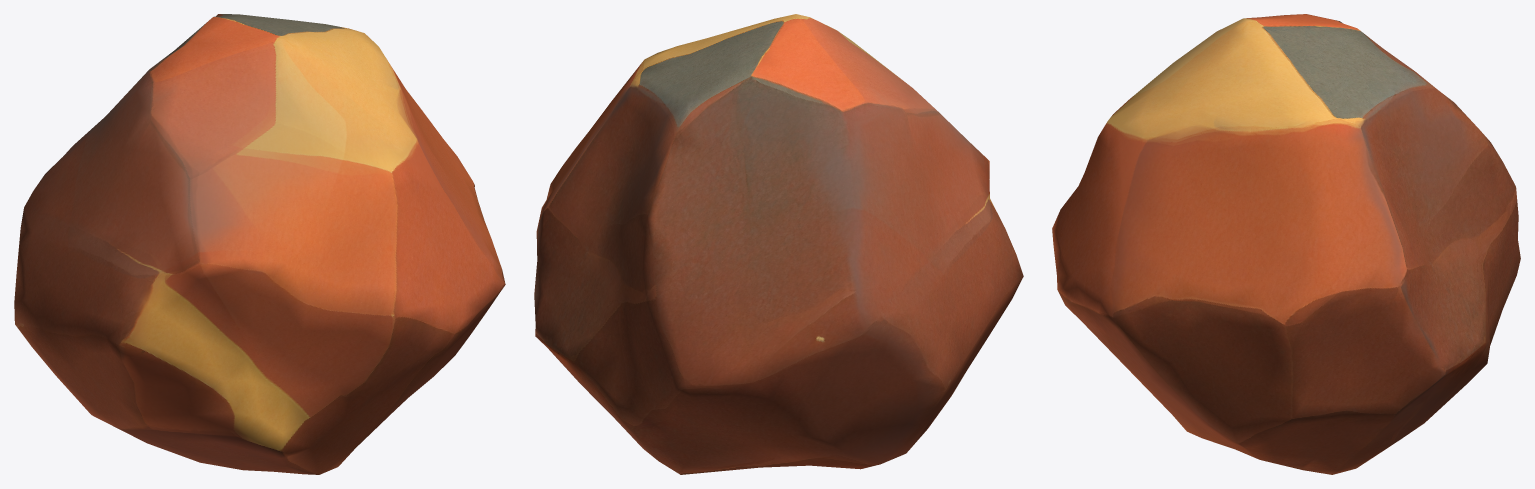
The model's file is OreChunkCopper.glb.
3 renders of one model, left to right at view 1: azimuth 30°, elevation 25°; view 2: azimuth 150°, elevation 25°; view 3: azimuth 270°, elevation 25°, orthographic. The views are drawn at different scales.
Parts seen in each view (by area): view 1: texture_mapping; view 2: texture_mapping; view 3: texture_mapping.
Boxes of the visible parts, left/top/right/bottom form: texture_mapping: left=14, top=14, right=505, bottom=474; texture_mapping: left=534, top=14, right=1023, bottom=474; texture_mapping: left=1052, top=14, right=1520, bottom=474.
Bounding box in the file's own units: 0.9926 × 0.9954 × 0.9871.
1 material, 1 textured.
